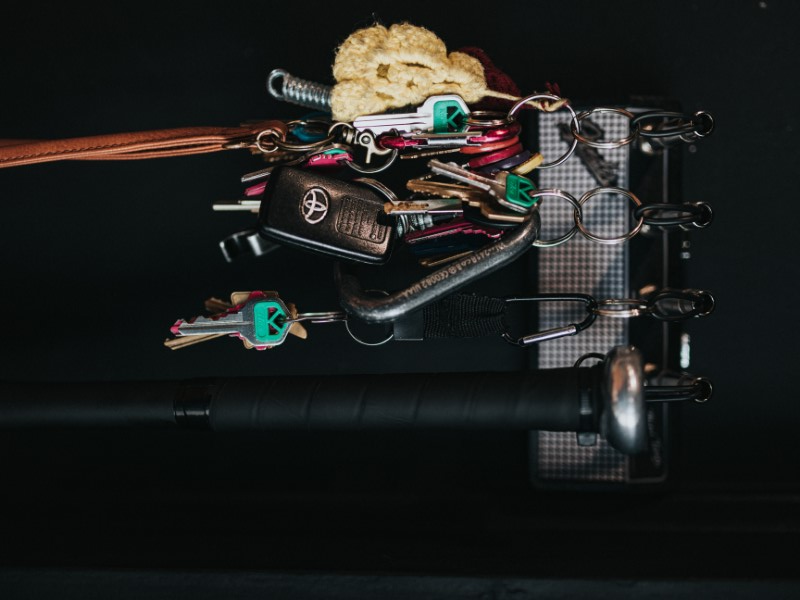carkey: (257, 159, 397, 262)
key: (164, 279, 305, 363), (351, 91, 477, 140)
